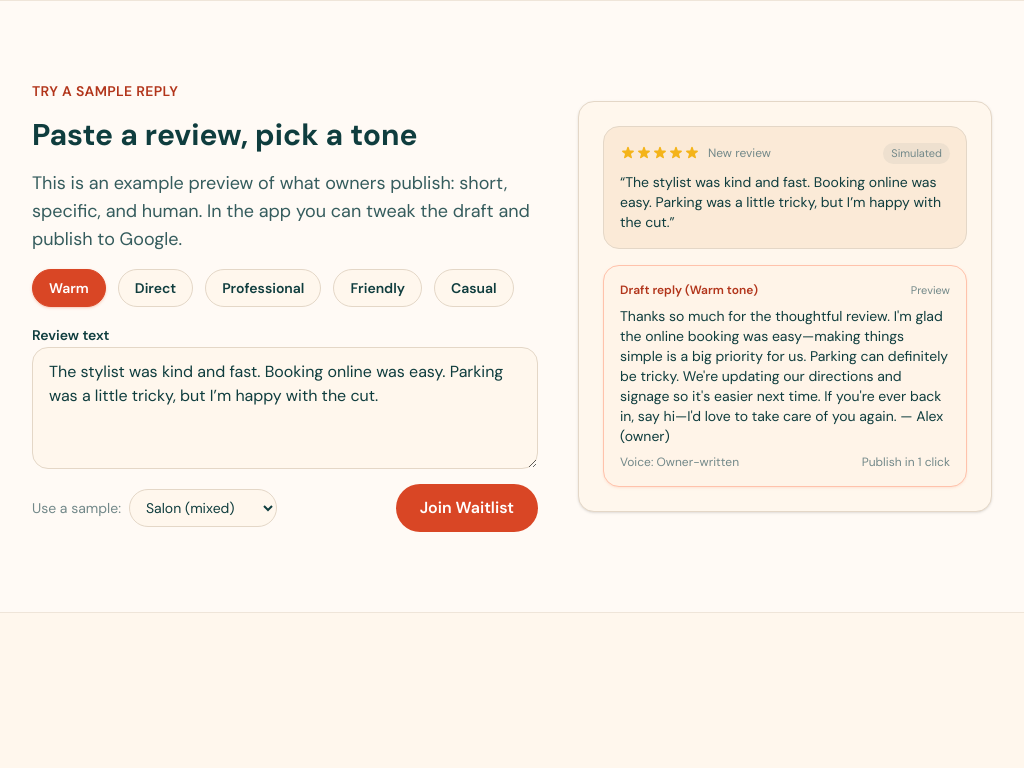
Test: components/landing/LiveDemo › Tone selection › updates draft when tone changes to Casual
Step 1. Click the button "Casual" → [474, 288], box [434, 269, 514, 307]
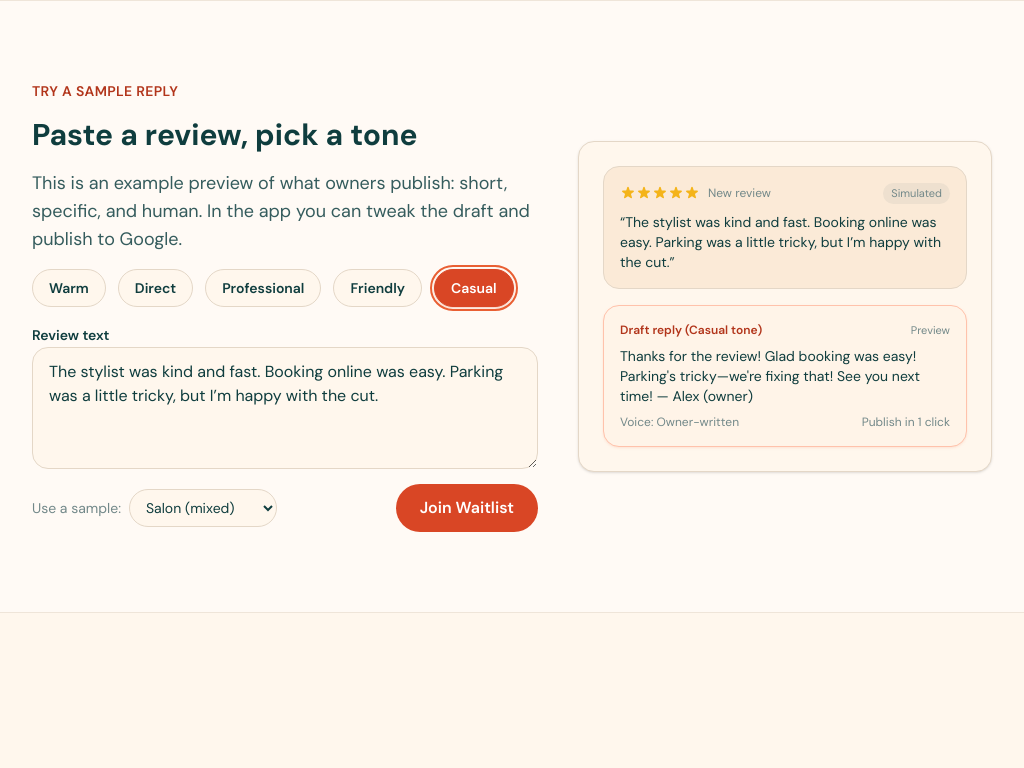
Expected: the text "Draft reply (Casual tone)" is shown, [620, 322, 762, 338]
